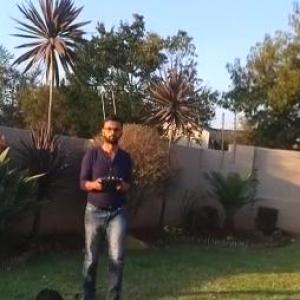follow: (74, 109, 140, 298)
null: (24, 288, 79, 299)
